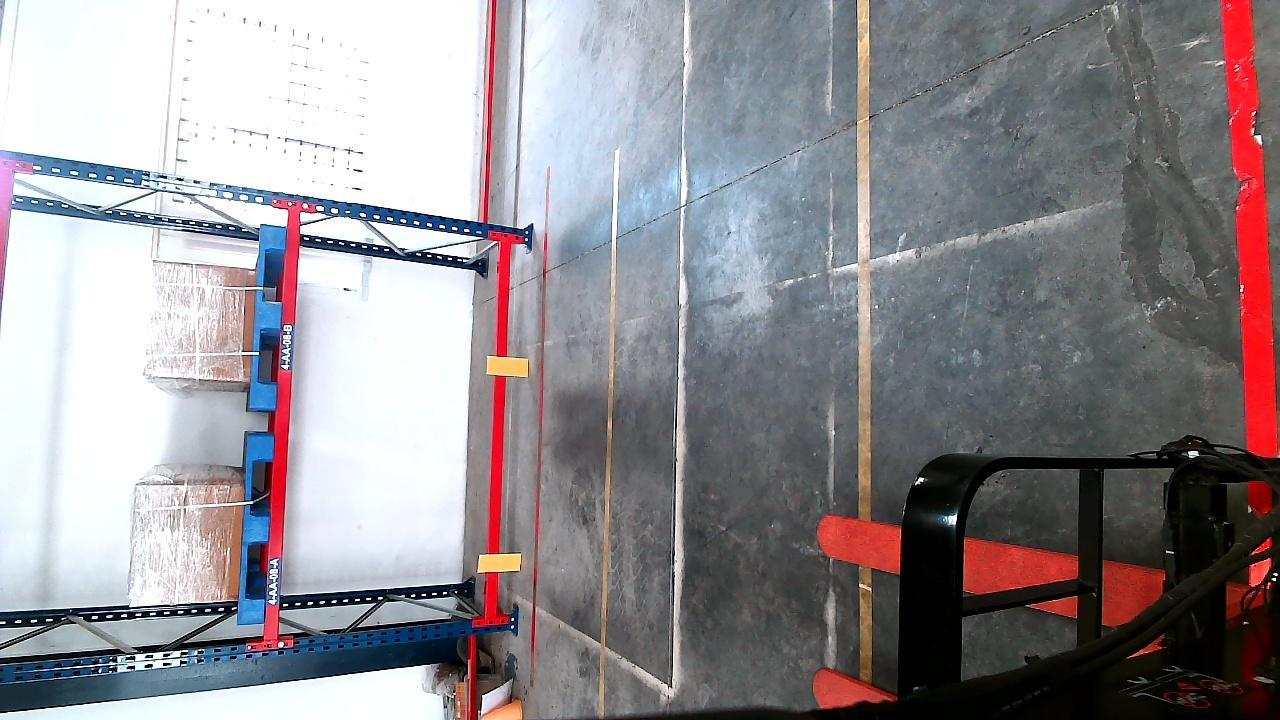red_line: (1219, 0, 1279, 455)
yellow_line: (595, 152, 624, 720), (854, 0, 876, 504)
